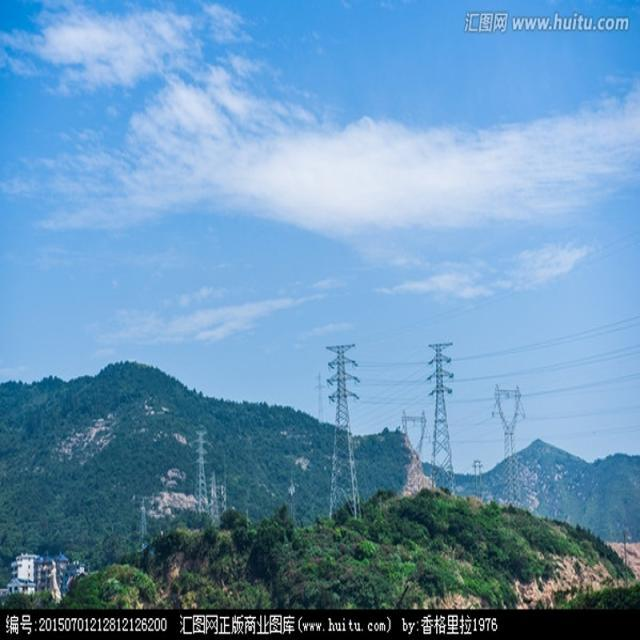non-critical vegetation: (316, 338, 370, 520), (484, 374, 534, 509), (426, 342, 459, 494), (187, 425, 211, 522)
